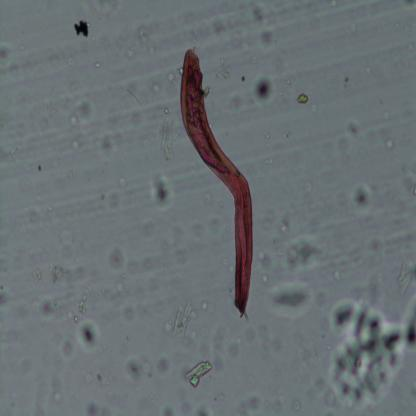Background material: (328, 293, 416, 412), (102, 250, 171, 320), (211, 320, 266, 372), (100, 108, 144, 152), (0, 142, 34, 193), (268, 285, 315, 314), (284, 236, 326, 268), (262, 213, 297, 245), (150, 171, 176, 213), (157, 114, 178, 162), (188, 214, 225, 240), (75, 385, 105, 416), (69, 94, 93, 132), (255, 247, 280, 282), (251, 73, 277, 106), (78, 318, 101, 354), (184, 361, 213, 388), (362, 233, 386, 265), (124, 353, 146, 386), (173, 302, 192, 340), (53, 332, 76, 362), (351, 183, 374, 213), (234, 392, 265, 414), (75, 282, 94, 315), (399, 258, 416, 292), (134, 21, 158, 45), (340, 117, 363, 141), (249, 2, 268, 27), (400, 169, 416, 198), (188, 401, 218, 416), (212, 60, 230, 84), (40, 295, 57, 320), (214, 14, 232, 36), (73, 18, 90, 40), (258, 149, 275, 169), (0, 278, 10, 311), (49, 262, 65, 282), (108, 190, 121, 213), (260, 28, 274, 47), (157, 355, 169, 377), (230, 99, 244, 115), (157, 404, 175, 416), (27, 208, 41, 222), (0, 42, 8, 65), (297, 91, 310, 105), (154, 83, 166, 97), (302, 177, 314, 191), (334, 266, 344, 282), (67, 270, 78, 284), (70, 139, 80, 154), (284, 129, 293, 141), (386, 138, 394, 151), (344, 76, 350, 90), (284, 77, 292, 85)
Cotton: (180, 47, 254, 318)
